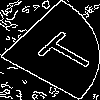T: (25, 25, 100, 78)
